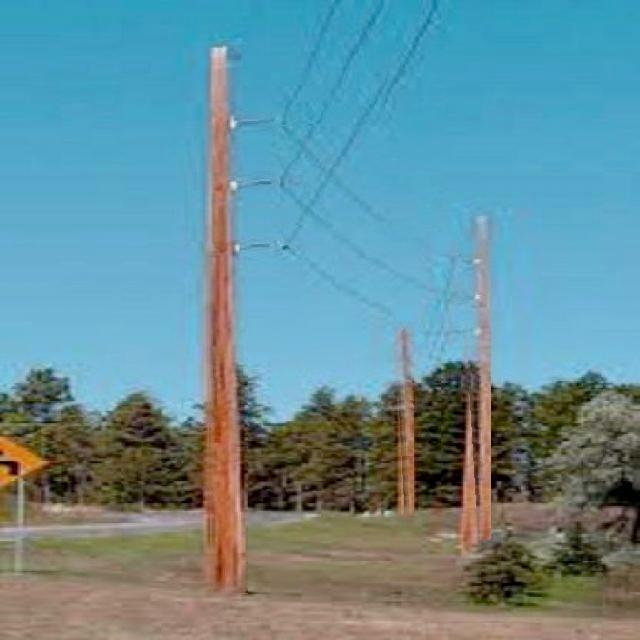crossarm: (236, 171, 279, 196), (235, 114, 279, 136), (240, 234, 280, 256)
pole: (207, 40, 248, 595)
wire: (294, 3, 445, 248), (281, 3, 392, 182), (283, 196, 470, 299), (280, 126, 381, 222), (285, 243, 396, 325), (280, 2, 344, 125), (474, 216, 491, 540), (400, 331, 414, 516)
